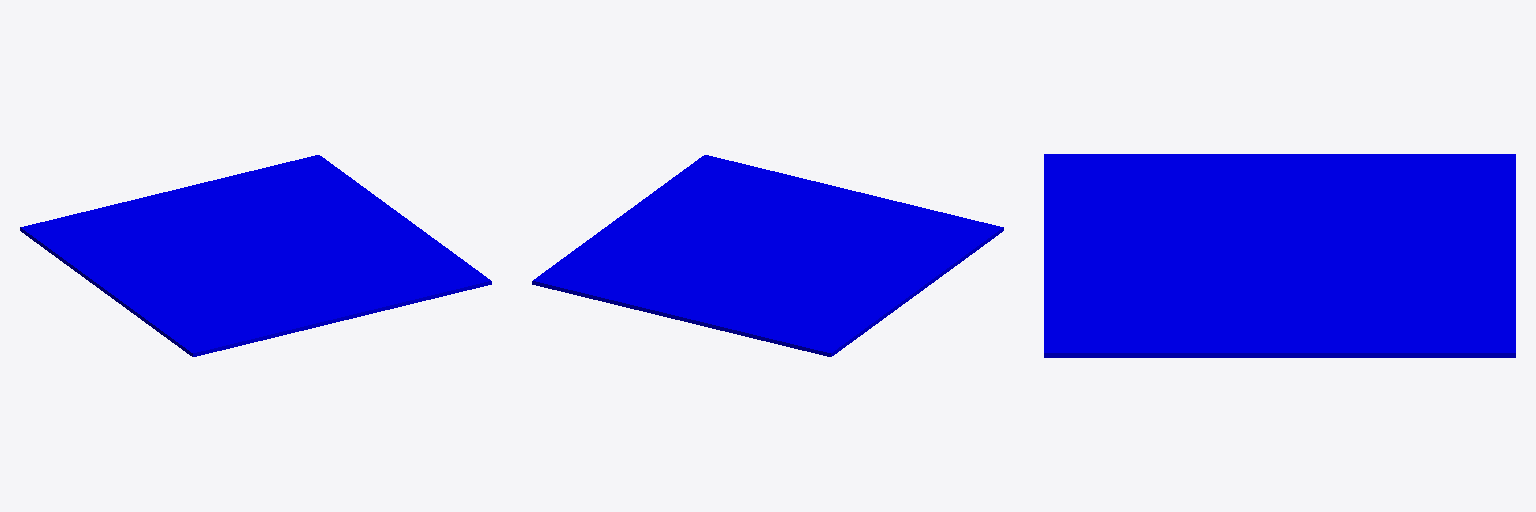
The robot description file, URDF, robot "urdf_robot1":
<?xml version="1.0" ?>
<!-- =================================================================================== -->
<!-- |    This document was autogenerated by xacro from /root/gpdhydra_ws/src/gpd_ros/urdf/gallery_first_level_floor.xacro | -->
<!-- |    EDITING THIS FILE BY HAND IS NOT RECOMMENDED                                 | -->
<!-- =================================================================================== -->
<robot name="urdf_robot1">
  <link name="cieling">
    <inertial>
      <origin xyz="0 0 0" /> 
      <mass value="0.0" />
      <inertia  ixx="1.0" ixy="0.0"  ixz="0.0"  iyy="100.0"  iyz="0.0"  izz="1.0" />
    </inertial>
    <visual>
      <origin  rpy="0 0 0" xyz="0 0 1"/>
      <geometry>
        <box size="4 4 0.05" />
      </geometry>
      <material name="blue">
        <color rgba="0 0 1 1"/>
        <specular rgb="11 1 1" />
      </material>
    </visual>
    <collision>
      <origin  rpy="0 0 0" xyz="0 0 1"/>
      <geometry>
        <box size="4 4 0.1" />
      </geometry>
    </collision>
  </link>
</robot>

--- What the picture shows (computed from the rendered views, not written in the file) ---
The picture shows the robot from 3 angles, left to right: view 1: azimuth 30°, elevation 25°; view 2: azimuth 150°, elevation 25°; view 3: azimuth 270°, elevation 25°; orthographic projection.
Robot: urdf_robot1 — 1 links, 0 joints (none); root link cieling; default pose: every joint at zero.
Visible links, largest first — view 1: cieling; view 2: cieling; view 3: cieling.
Boxes of the visible links, x1,y1,x2,y2 form: cieling: (20,155,491,356); cieling: (532,155,1003,356); cieling: (1044,154,1515,357).
Bounding box of the posed robot: 4 × 4 × 0.05 m (x, y, z).
Geometry: primitives only (box / cylinder / sphere), no mesh files.